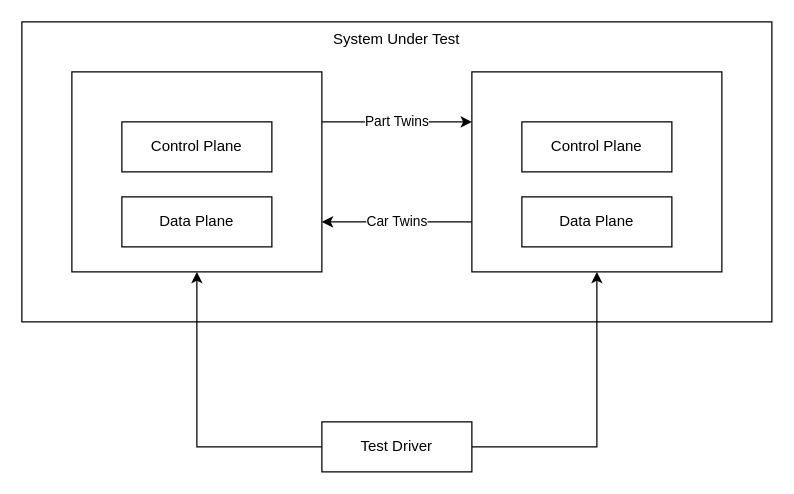
This 794x494 diagram has some shape labels left out. Each missing label, with the box of its shape:
OEM: (471, 71, 722, 272)
Supplier: (71, 71, 322, 272)
